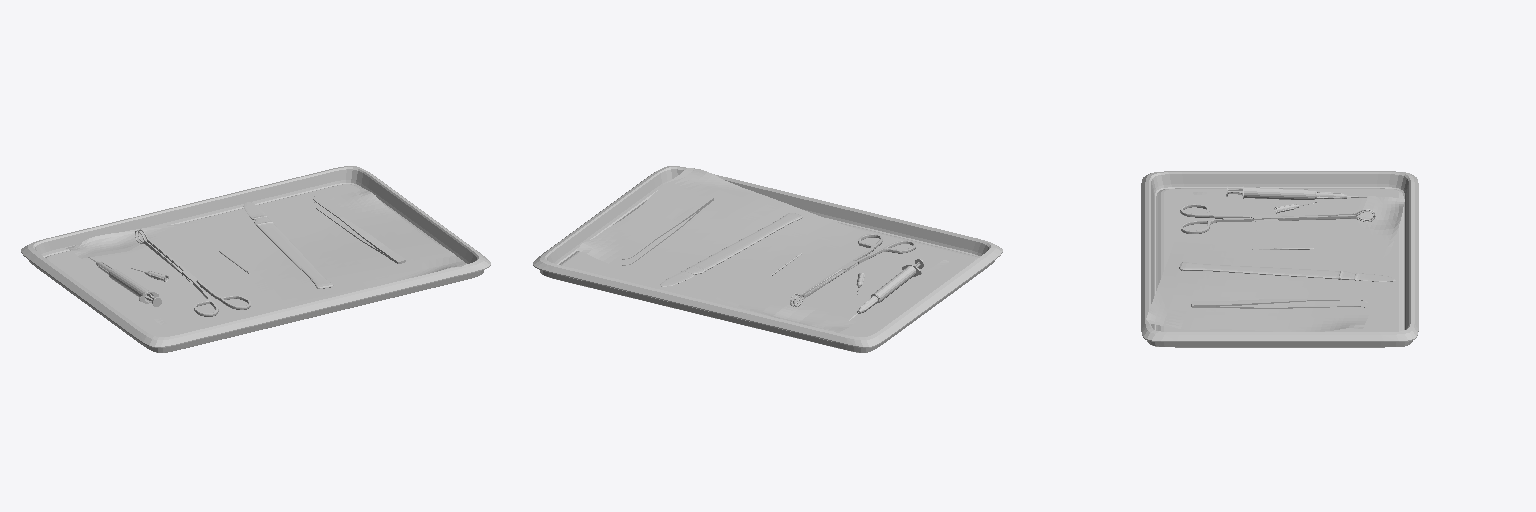
Rendered from tools.obj.
3 views of the same model, side by side, from view 1: azimuth 30°, elevation 25°; view 2: azimuth 150°, elevation 25°; view 3: azimuth 270°, elevation 25° (orthographic).
Parts seen in each view (by area): view 1: Towel_Material_#105_0, Tray_Material_#104_0, Object_4, Scissors_T1_Material_#104_0, w_Material_#104_0; view 2: Towel_Material_#105_0, Tray_Material_#104_0, Object_4, Scissors_T1_Material_#104_0, w_Material_#104_0, Syringe_Material_#70_0; view 3: Towel_Material_#105_0, Tray_Material_#104_0, Object_4, Scissors_T1_Material_#104_0, w_Material_#104_0, Syringe_Material_#70_0.
Boxes of the visible parts, x1,y1,x2,y2 form: Towel_Material_#105_0: [66, 189, 467, 324]; Tray_Material_#104_0: [21, 166, 490, 352]; Object_4: [243, 202, 333, 288]; Scissors_T1_Material_#104_0: [135, 229, 250, 316]; w_Material_#104_0: [313, 195, 405, 263]; Towel_Material_#105_0: [577, 168, 948, 332]; Tray_Material_#104_0: [533, 166, 1002, 352]; Object_4: [660, 213, 802, 286]; Scissors_T1_Material_#104_0: [790, 234, 915, 306]; w_Material_#104_0: [622, 195, 713, 265]; Syringe_Material_#70_0: [871, 266, 915, 302]; Towel_Material_#105_0: [1145, 192, 1404, 331]; Tray_Material_#104_0: [1141, 171, 1418, 347]; Object_4: [1179, 262, 1395, 281]; Scissors_T1_Material_#104_0: [1180, 204, 1375, 233]; w_Material_#104_0: [1191, 299, 1367, 308]; Syringe_Material_#70_0: [1244, 187, 1315, 199].
Bounding box in the file's own units: 0.5506 × 0.0338 × 0.3834.